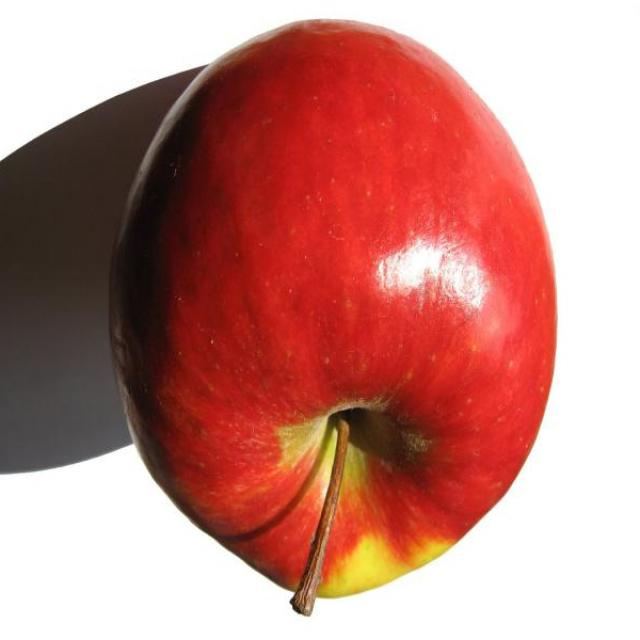apple: (104, 19, 576, 602)
